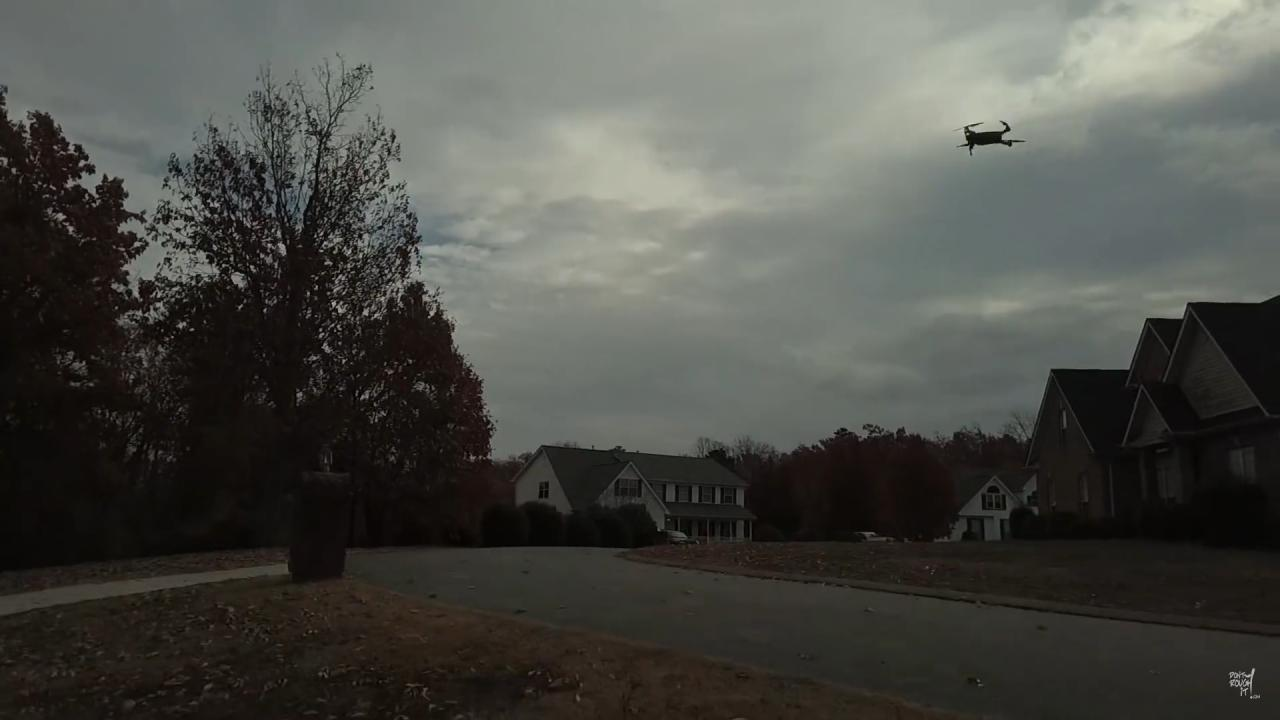Drone: (941, 104, 1035, 168)
